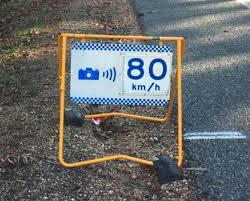sp80: (128, 53, 168, 95)
